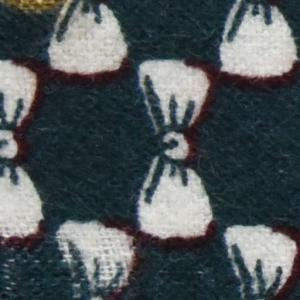Damage: (1, 207, 145, 300)
Oil Stain: (1, 1, 83, 30)
